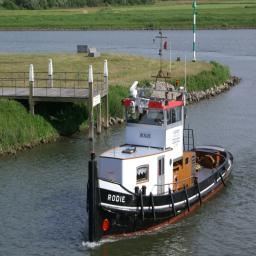tugboat: (87, 79, 236, 249)
